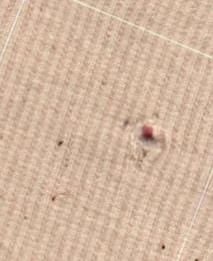hole: (129, 119, 169, 152)
stain: (151, 235, 175, 256), (50, 131, 74, 152), (44, 191, 65, 208)
